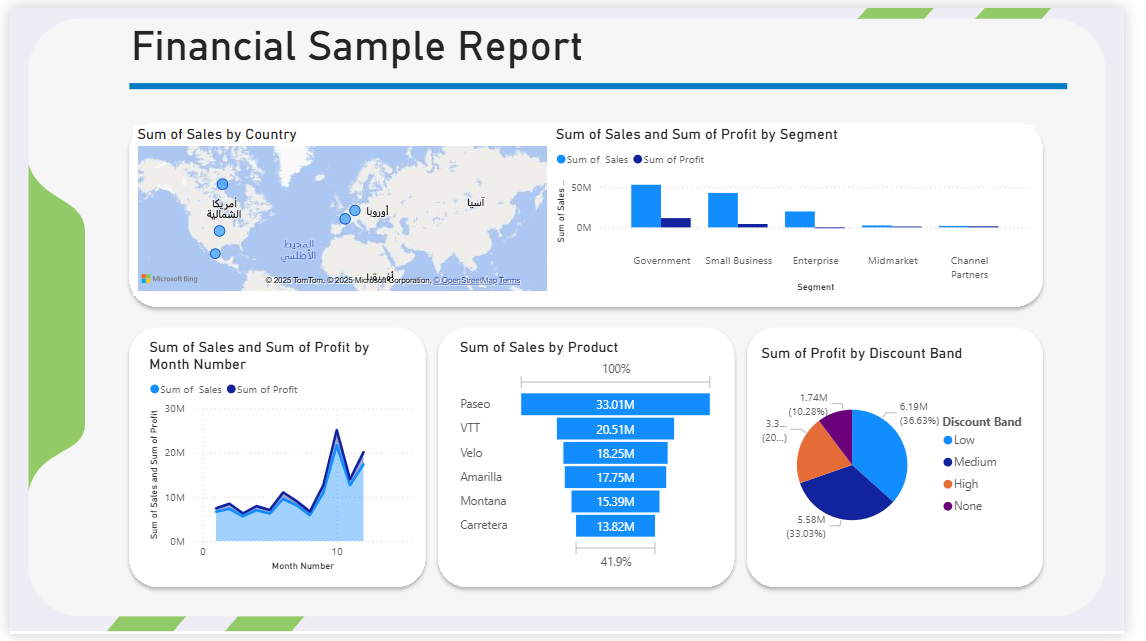

The page's visual inventory and layout, read from the dashboard file:
{"tool":"powerbi","page":{"name":"Page 1","canvas":[1280,720],"ordinal":0},"visuals":[{"type":"map","fields":{"Size":["Sum(FinancialSampleOnline. Sales)"],"Category":["FinancialSampleOnline.Country"]},"box":[0,0,569.8,351.2],"z":0},{"type":"clusteredColumnChart","fields":{"Y":["Sum(FinancialSampleOnline. Sales)","Sum(FinancialSampleOnline.Profit)"],"Category":["FinancialSampleOnline.Segment"]},"box":[558.2,0,578.1,351.2],"z":1},{"type":"stackedAreaChart","fields":{"Y":["Sum(FinancialSampleOnline. Sales)","Sum(FinancialSampleOnline.Profit)"],"Category":["FinancialSampleOnline.Month Number"]},"box":[0,359.5,523.4,359.5],"z":2},{"type":"funnel","fields":{"Y":["Sum(FinancialSampleOnline. Sales)"],"Category":["FinancialSampleOnline.Product"]},"box":[511.9,349.5,429,369.4],"z":3},{"type":"pieChart","fields":{"Y":["Sum(FinancialSampleOnline.Profit)"],"Category":["FinancialSampleOnline.Discount Band"]},"box":[940.9,351.2,339.6,367.7],"z":4}]}

Visuals, with their boxes in screenshot pixels (x1, y1, x2, y2), scaled from the page's 1280x720 canvas onto the 1146x641 screenshot:
map - Sum(FinancialSampleOnline. Sales) x FinancialSampleOnline.Country: bbox=[0, 0, 510, 313]
clusteredColumnChart - Sum(FinancialSampleOnline. Sales) x Sum(FinancialSampleOnline.Profit): bbox=[500, 0, 1017, 313]
stackedAreaChart - Sum(FinancialSampleOnline. Sales) x Sum(FinancialSampleOnline.Profit): bbox=[0, 320, 469, 640]
funnel - Sum(FinancialSampleOnline. Sales) x FinancialSampleOnline.Product: bbox=[458, 311, 842, 640]
pieChart - Sum(FinancialSampleOnline.Profit) x FinancialSampleOnline.Discount Band: bbox=[842, 313, 1145, 640]
